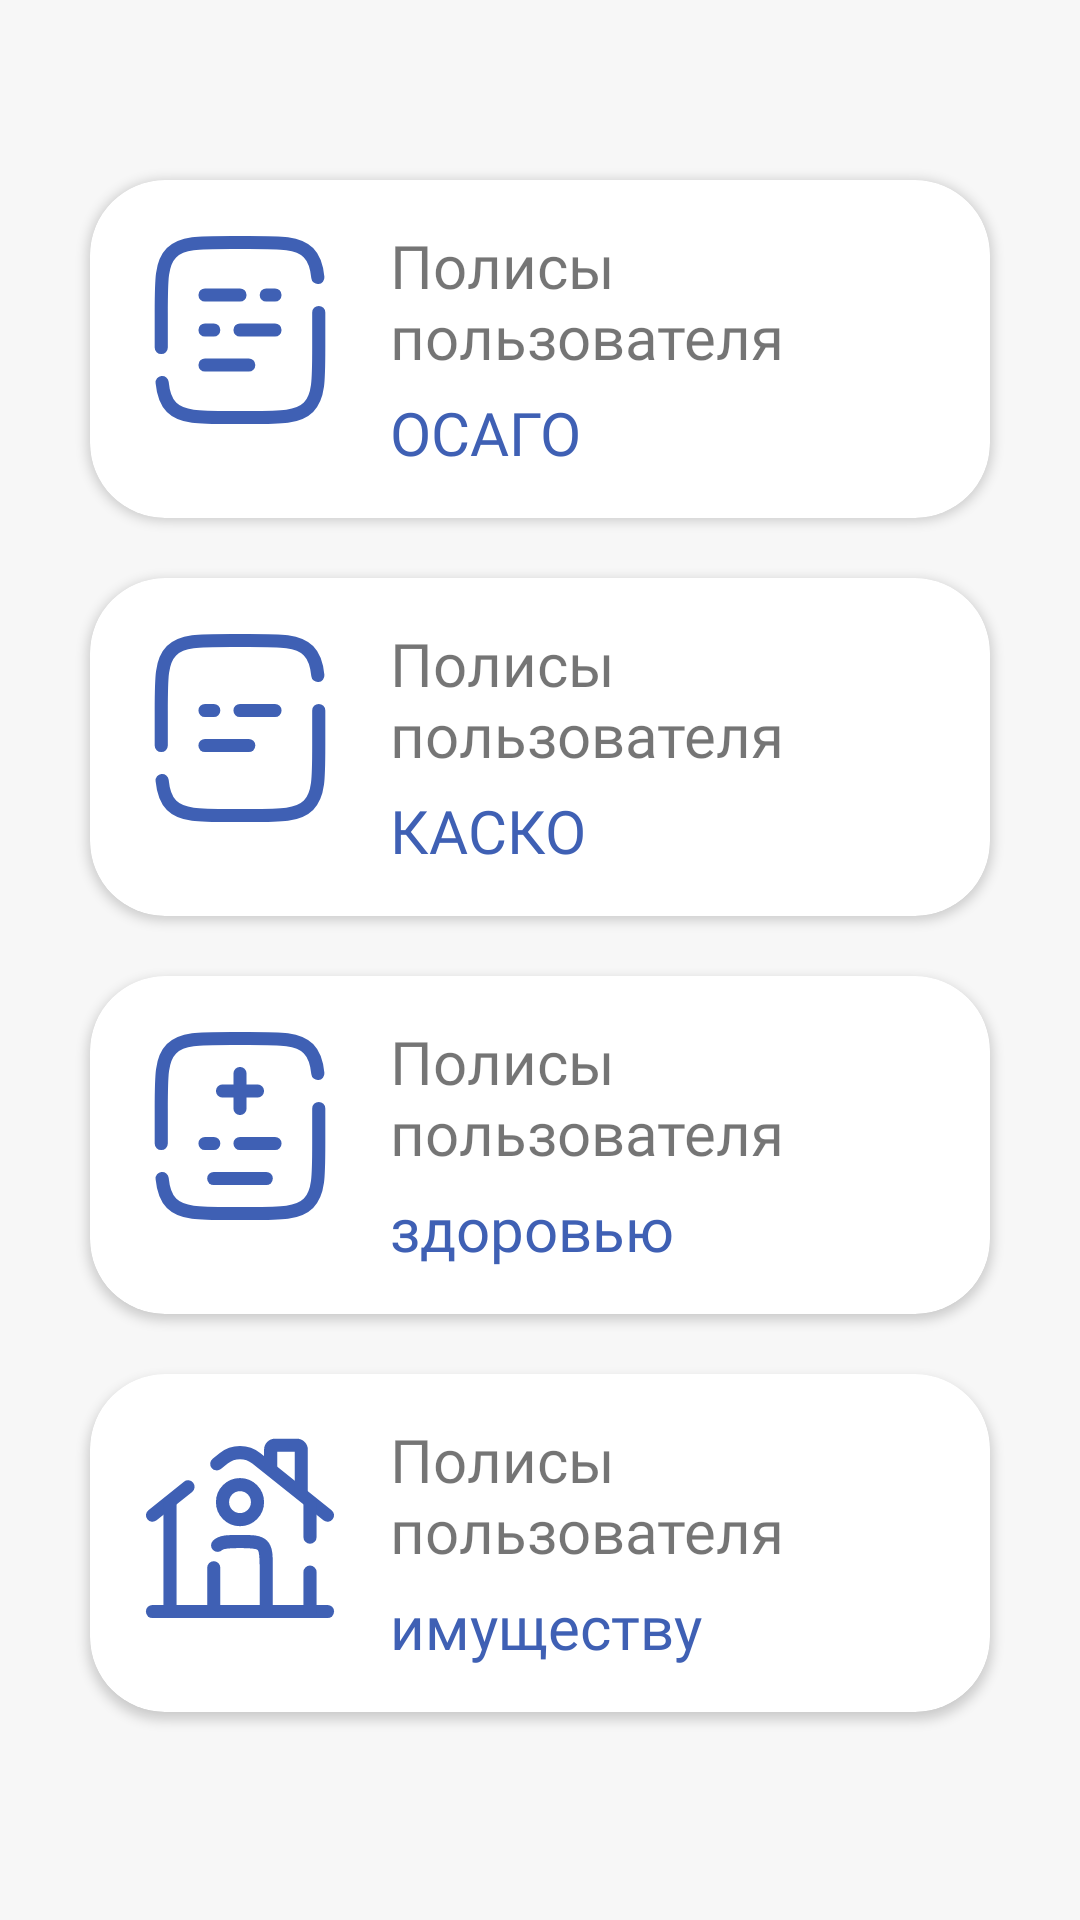

Icons on this 1080x1920 Android screen, each with the point to tap as (x,y):
document: (240,728)
document medicine: (240,1126)
document text: (240,330)
home: (240,1528)
